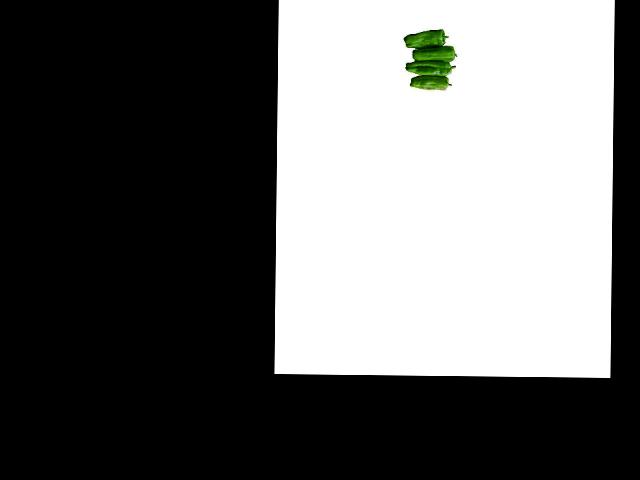bell_pepper: (400, 29, 451, 48)
